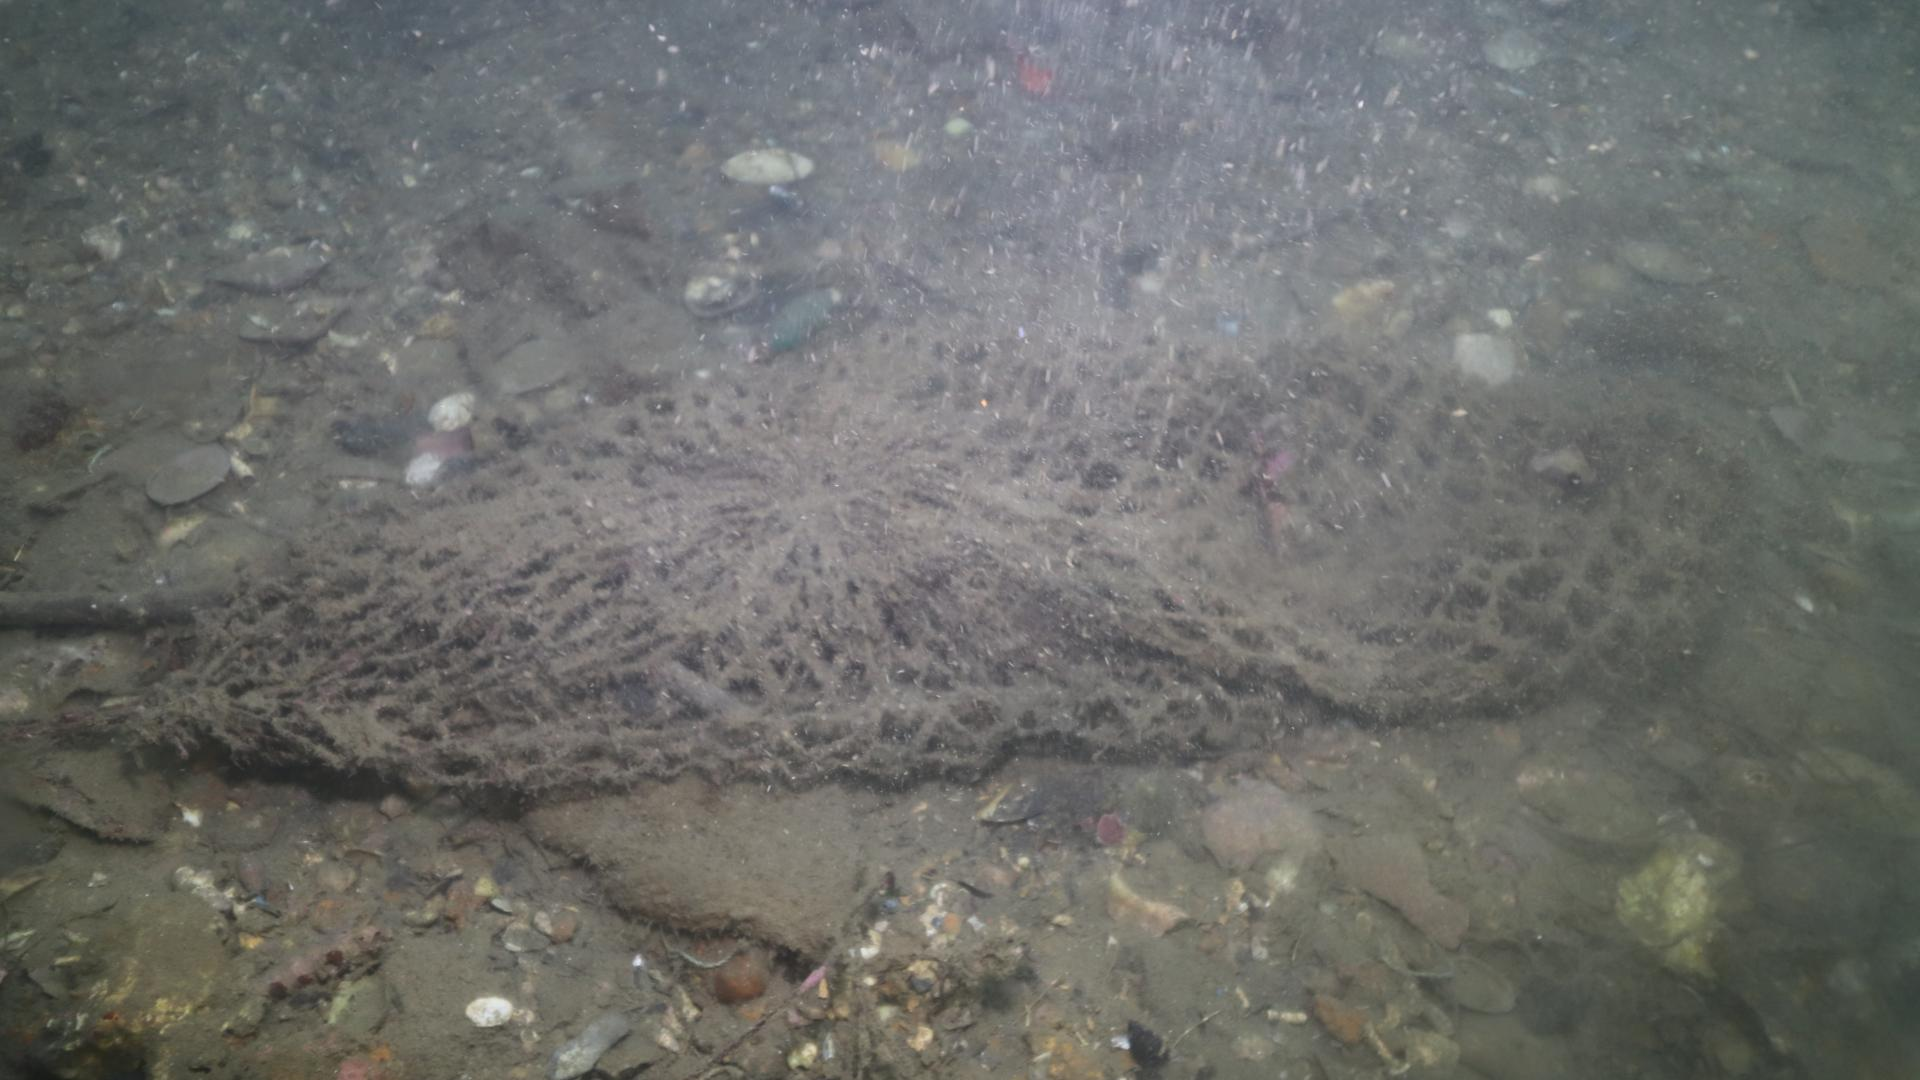fish net: (185, 338, 1688, 789)
